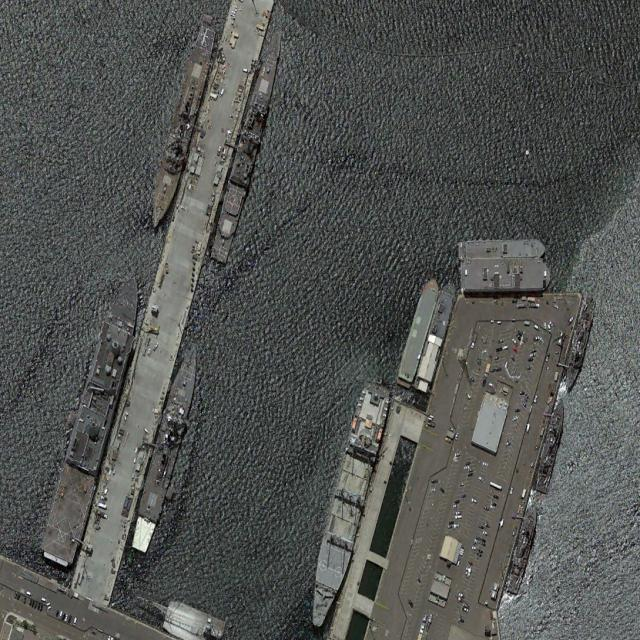Auxiliary Ships: (37, 267, 152, 572)
Cruiser: (209, 21, 287, 266)
Destroyer: (127, 338, 207, 555), (147, 21, 220, 232)
Other Ship: (300, 380, 394, 634)
Other Warship: (411, 279, 460, 395), (394, 276, 441, 390), (559, 297, 598, 395), (505, 502, 540, 599), (534, 400, 568, 495), (461, 259, 550, 292), (459, 239, 545, 259)
